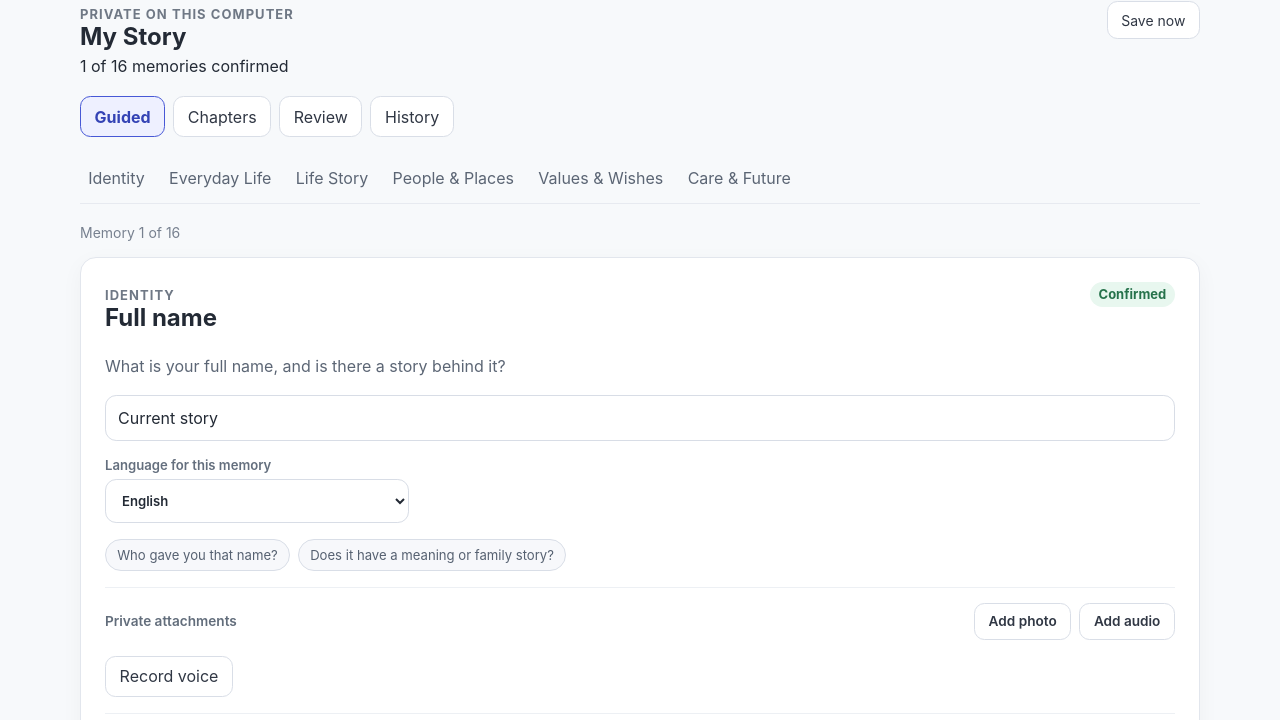
MyStory › shows History newest-first and requires restore confirmation with focus return
Expected: the text "1 of 16 memories confirmed" is shown, [80,56,294,76]
Click the button "History" at (412, 117), box [370,96,454,137]
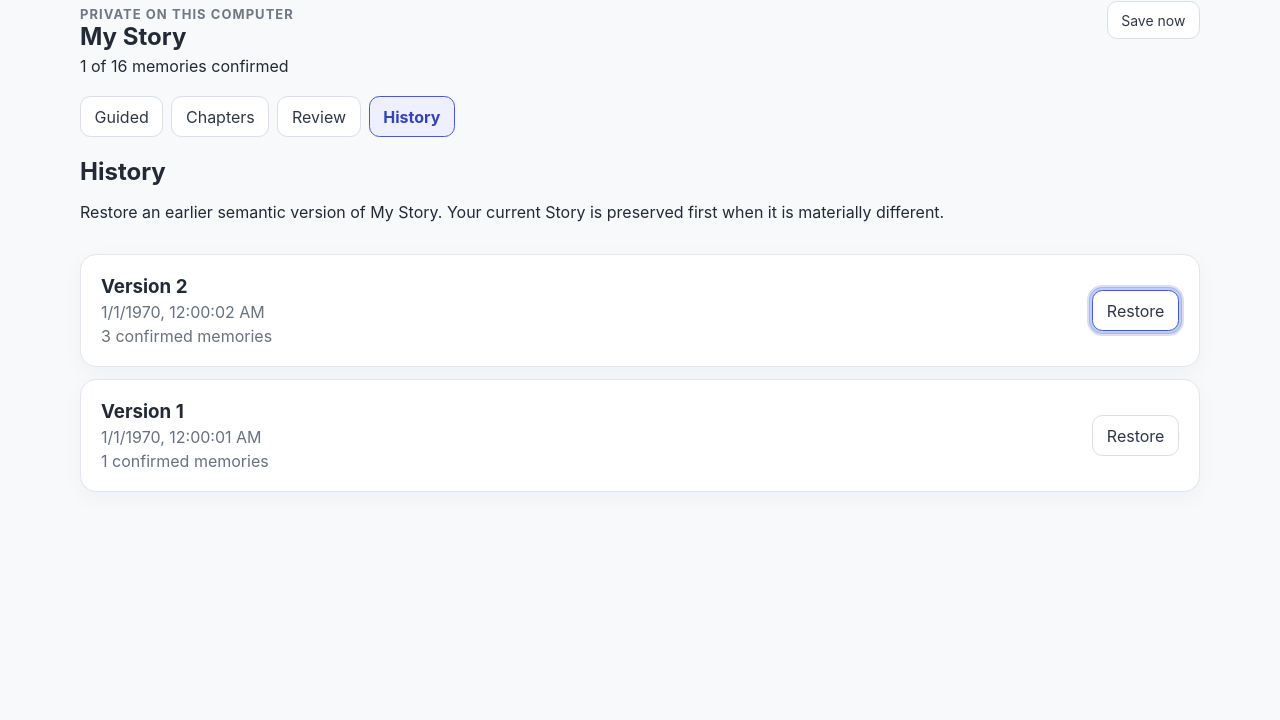
Result: the number of buttons named "Restore version" is 2
Click the button with aria-label "Restore version" at (1136, 311), box [1092,290,1179,332]
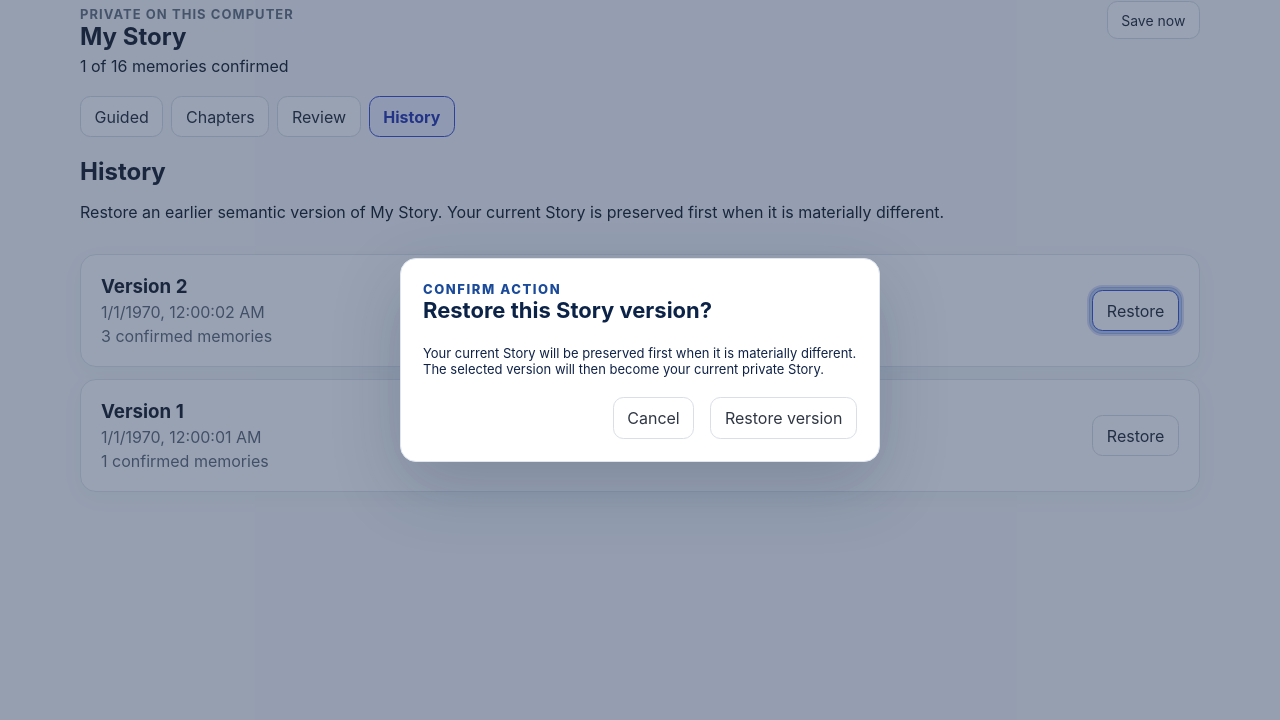
Result: the dialog "Restore this Story version?" is shown at [400,258,880,462]
Click the button "Cancel" at (654, 418), box [613,397,694,439]
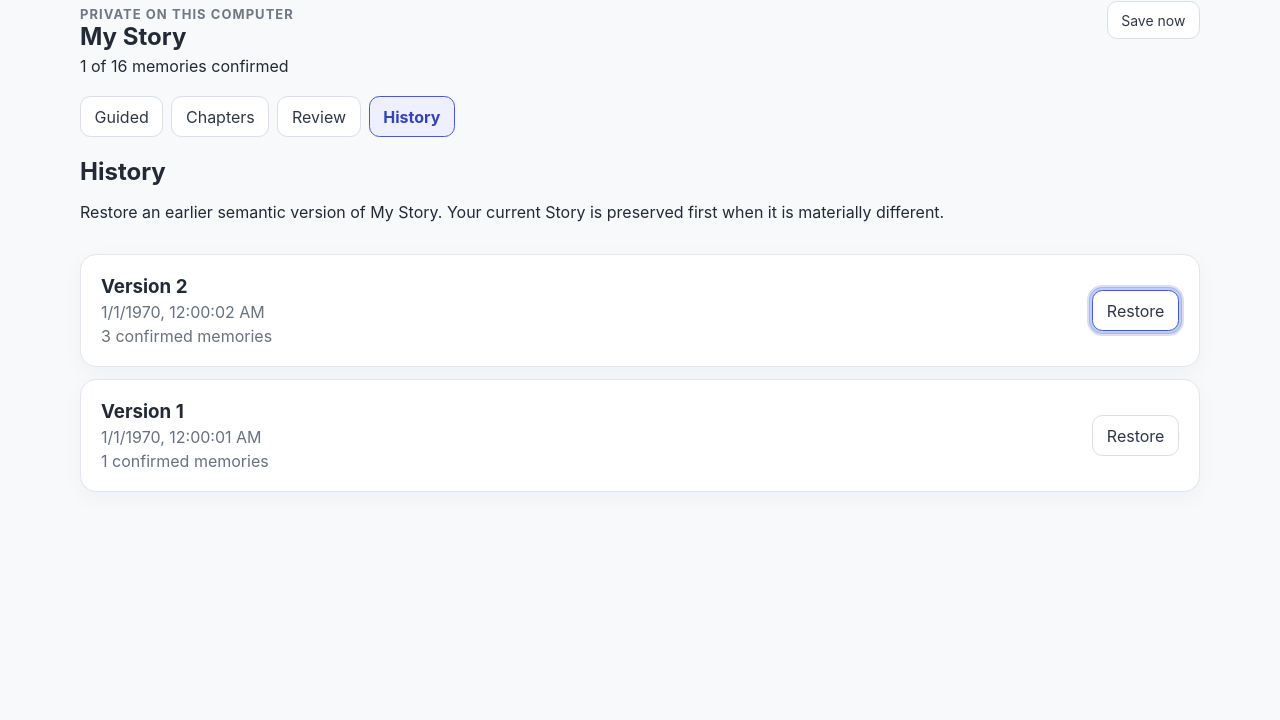
Click the button with aria-label "Restore version" at (1136, 311), box [1092,290,1179,332]
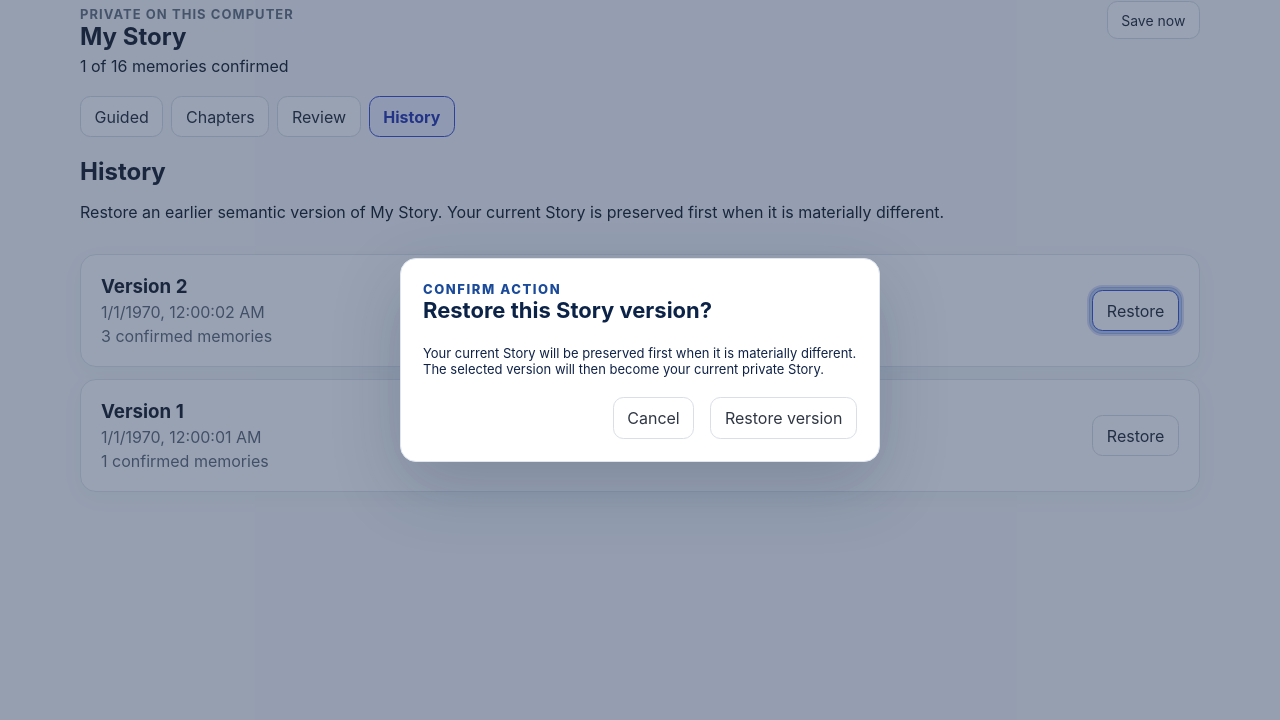
Click the button "Restore version" at (784, 418), box [710,397,857,439]
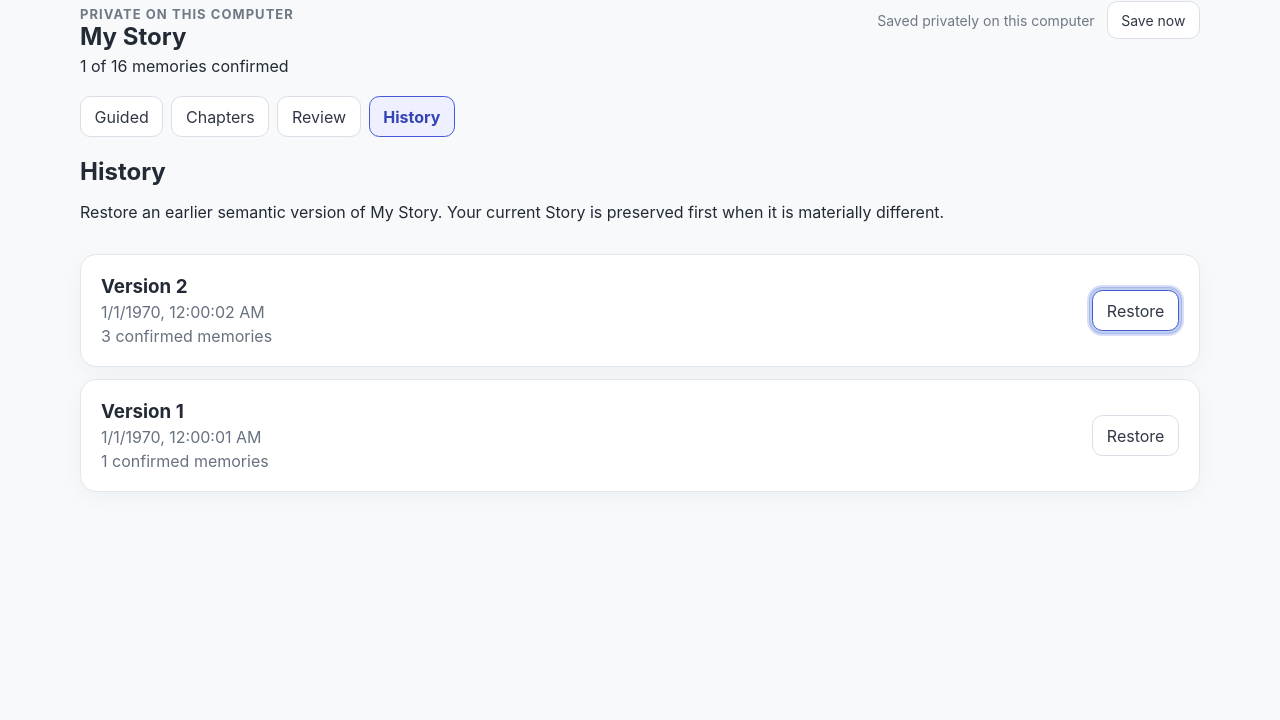
Expected: the text "1 of 16 memories confirmed" is shown, [80,56,294,76]
Result: the heading "Restore this Story version?" is gone
